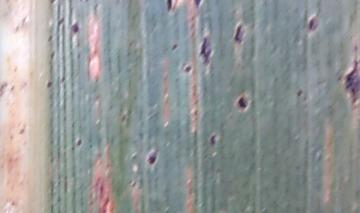tarspot: (343, 55, 360, 111), (199, 34, 213, 67), (303, 12, 323, 34), (233, 93, 250, 112), (233, 21, 244, 46), (207, 130, 219, 150), (167, 41, 183, 54), (162, 1, 176, 15), (69, 19, 79, 36), (147, 150, 157, 165), (182, 64, 195, 75), (44, 78, 54, 90), (294, 86, 302, 100), (75, 137, 83, 149), (193, 1, 203, 10)
